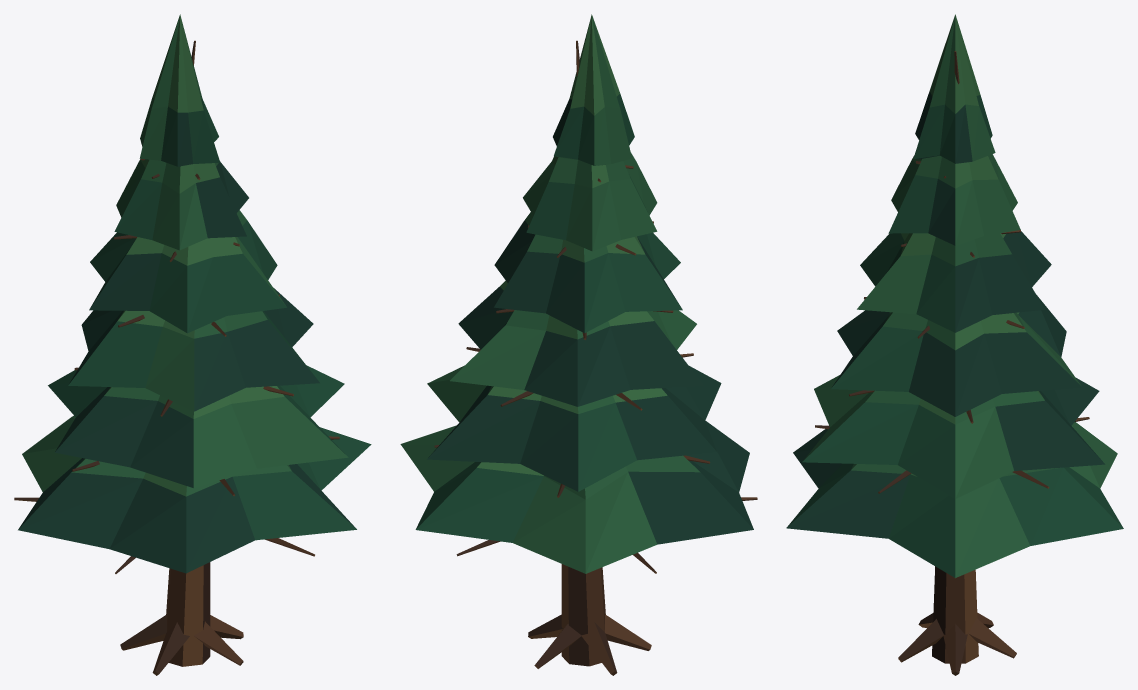
The model's file is tree_pine_tall.obj.
3 views of the same model, side by side, from view 1: azimuth 30°, elevation 25°; view 2: azimuth 150°, elevation 25°; view 3: azimuth 270°, elevation 25° (orthographic).
Parts seen in each view (by area): view 1: tree_pine_tall; view 2: tree_pine_tall; view 3: tree_pine_tall.
Boxes of the visible parts, <box> form: tree_pine_tall: <box>14,14,371,675</box>; tree_pine_tall: <box>400,14,757,675</box>; tree_pine_tall: <box>786,14,1123,675</box>.
Size of the model in its own units: 471 by 820 by 394.
1 material, 1 textured.
